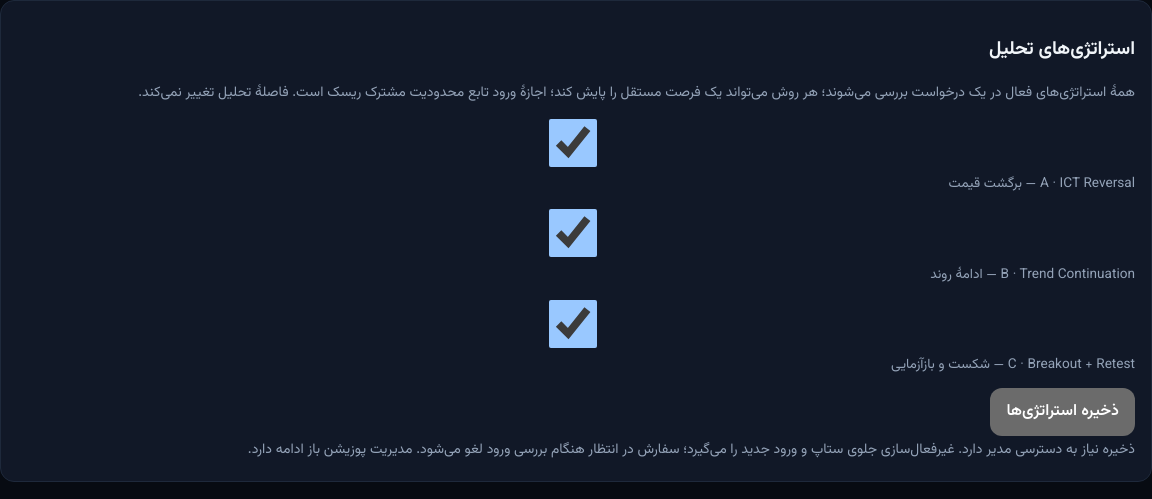
Test case: requires at least one strategy
Check: the checkbox labelled "B · Trend Continuation — ادامهٔ روند" is shown, box [14,209,1132,257]
Click the checkbox labelled "A · ICT Reversal — برگشت قیمت" at (573, 142), box [14,118,1132,166]
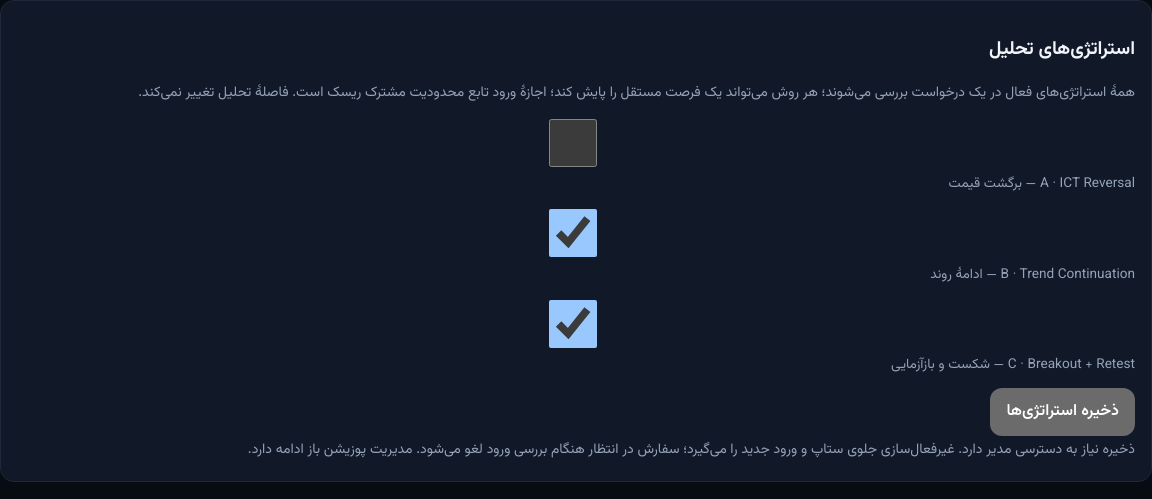
Click the checkbox labelled "B · Trend Continuation — ادامهٔ روند" at (573, 233), box [14,209,1132,257]
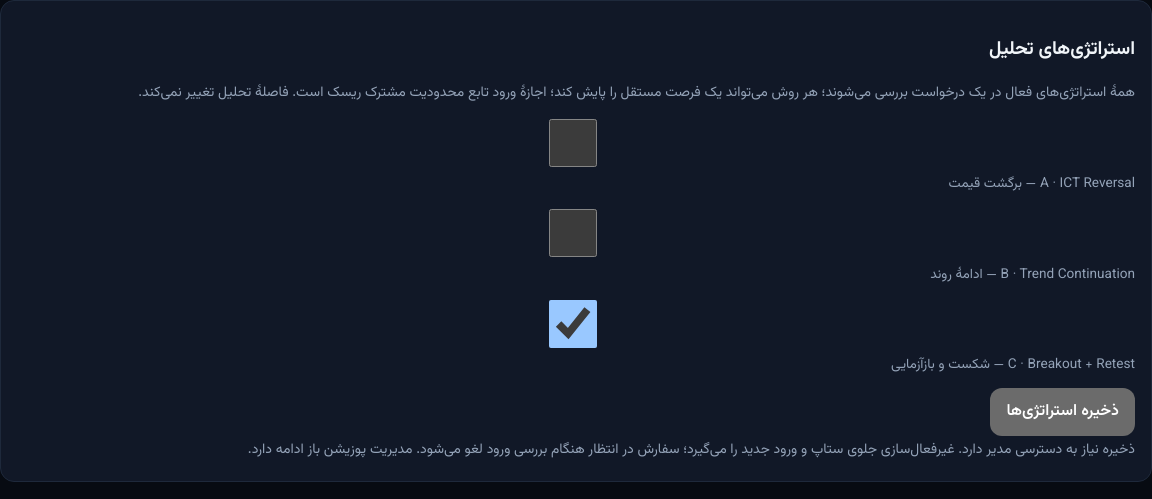
Click the checkbox labelled "C · Breakout + Retest — شکست و بازآزمایی" at (573, 324), box [14,300,1132,348]
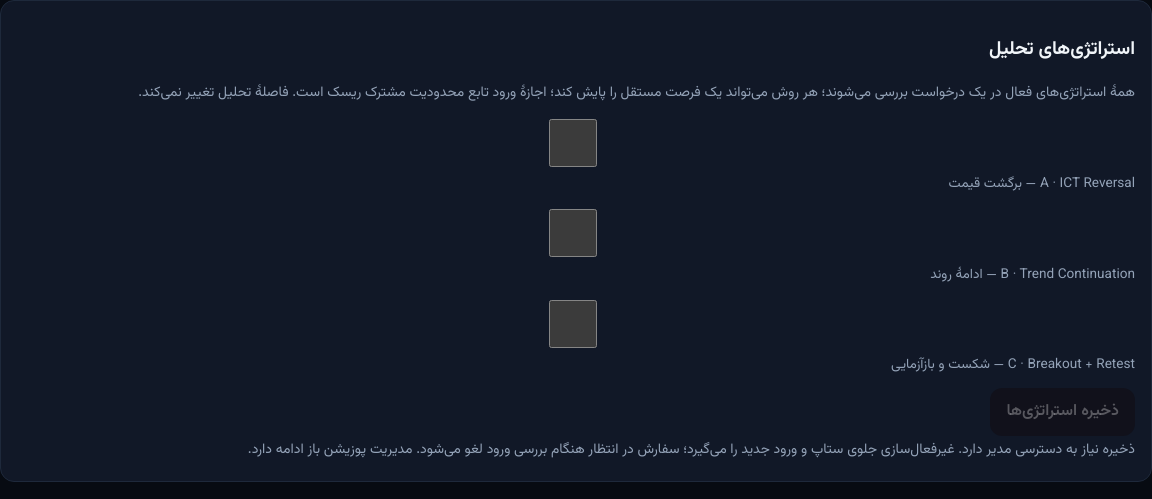
Check: the button "ذخیره استراتژی‌ها" is disabled, box [990,388,1135,436]
